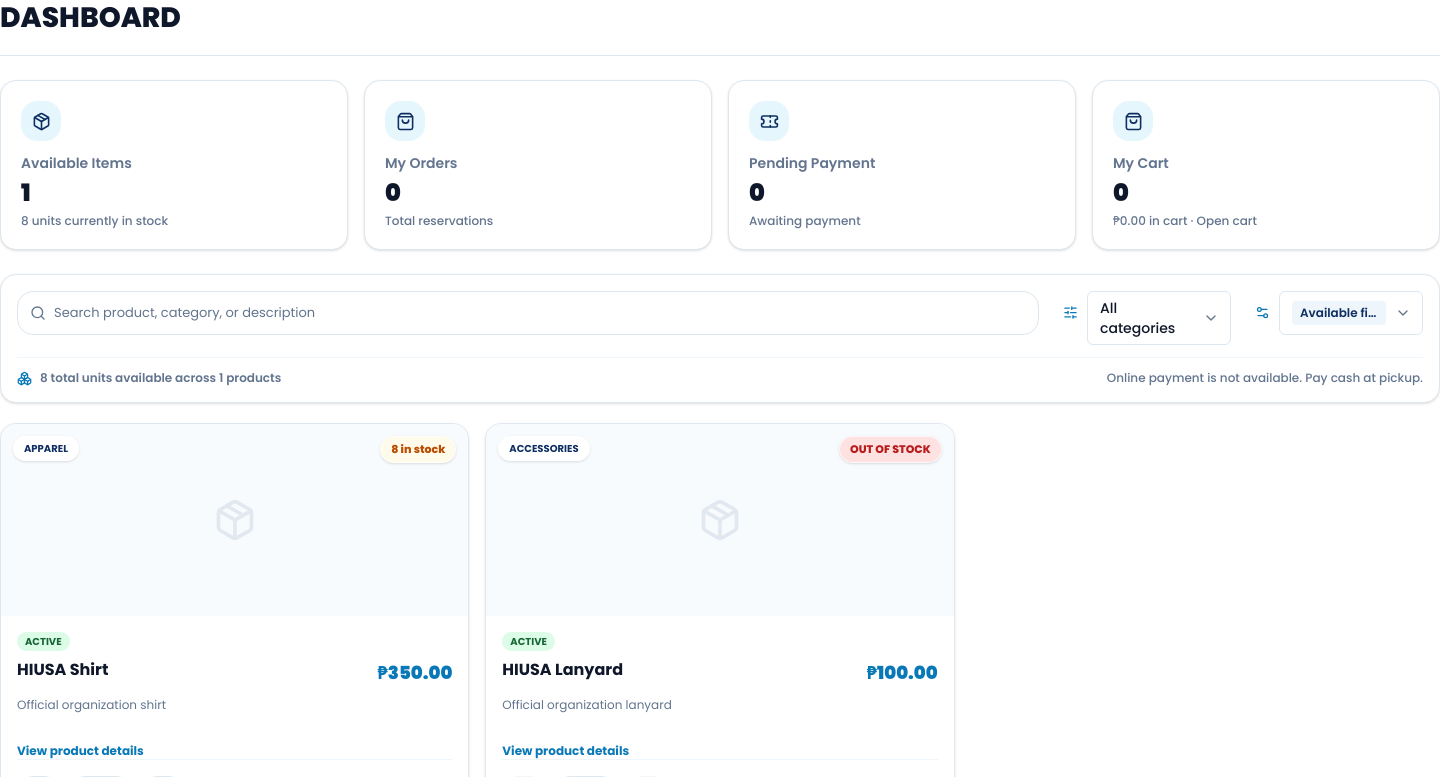
Test case: MerchandisePage buyer experience › opens product details with stock and adds the chosen quantity to the cart
Expected: the heading "HIUSA Shirt" is shown, x1=17 y1=659 x2=108 y2=681
Click the button "View product details" below "Official organization shirt" at (80, 751), box x1=17 y1=743 x2=144 y2=759
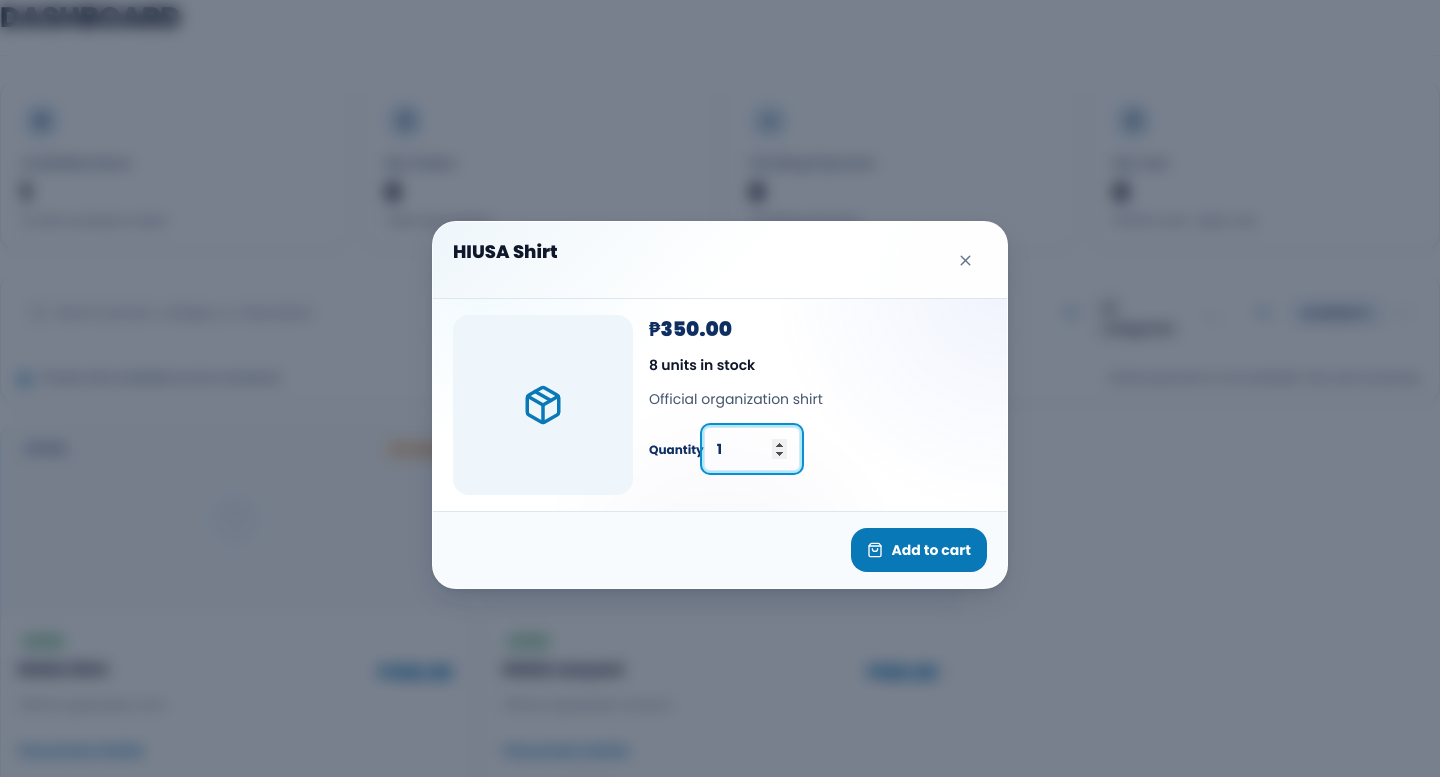
Now the text "8 units in stock" is shown, box x1=649 y1=355 x2=755 y2=375
Replace the text in the number field labelled "Quantity" with "2" at (752, 449), box x1=704 y1=427 x2=800 y2=471
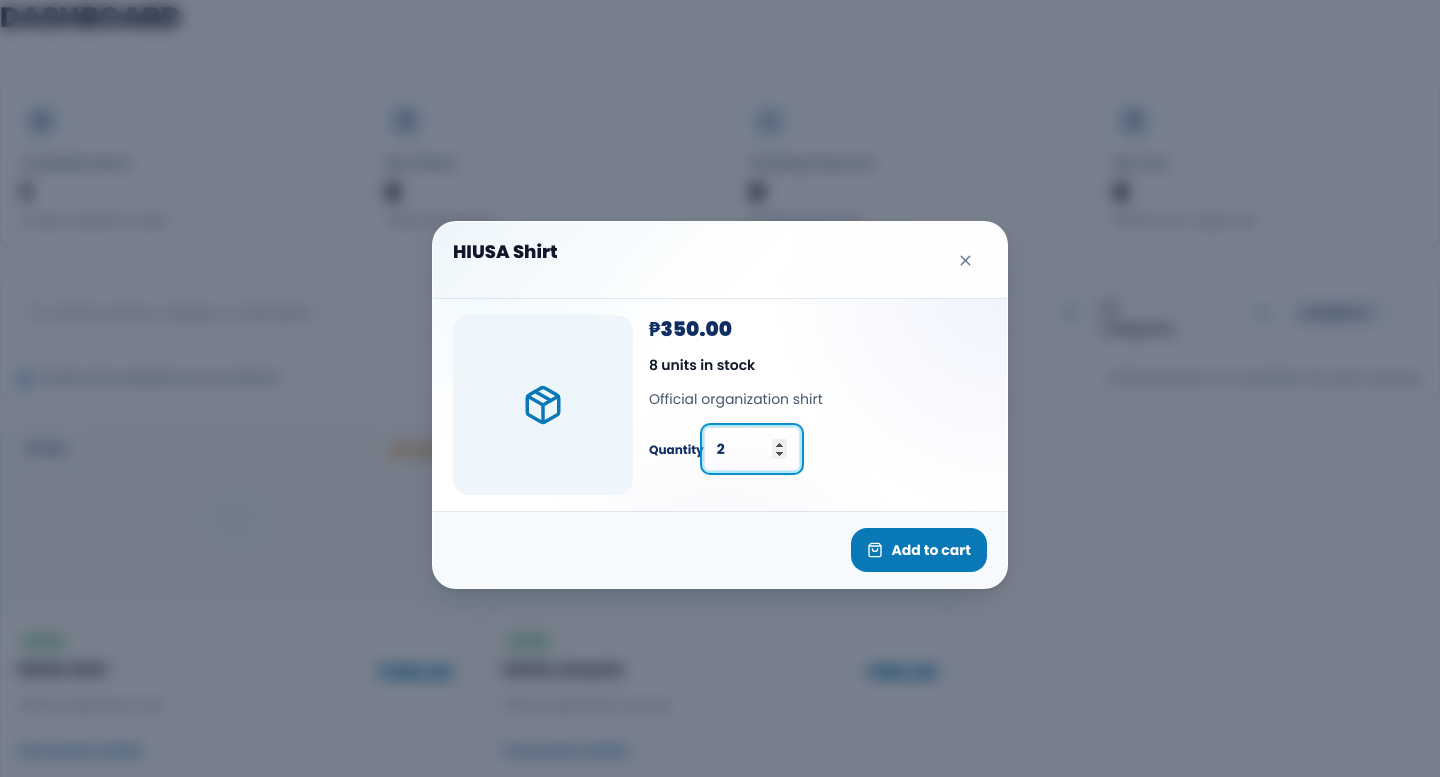
Click the button "Add to cart" at (919, 550), box x1=852 y1=528 x2=987 y2=572
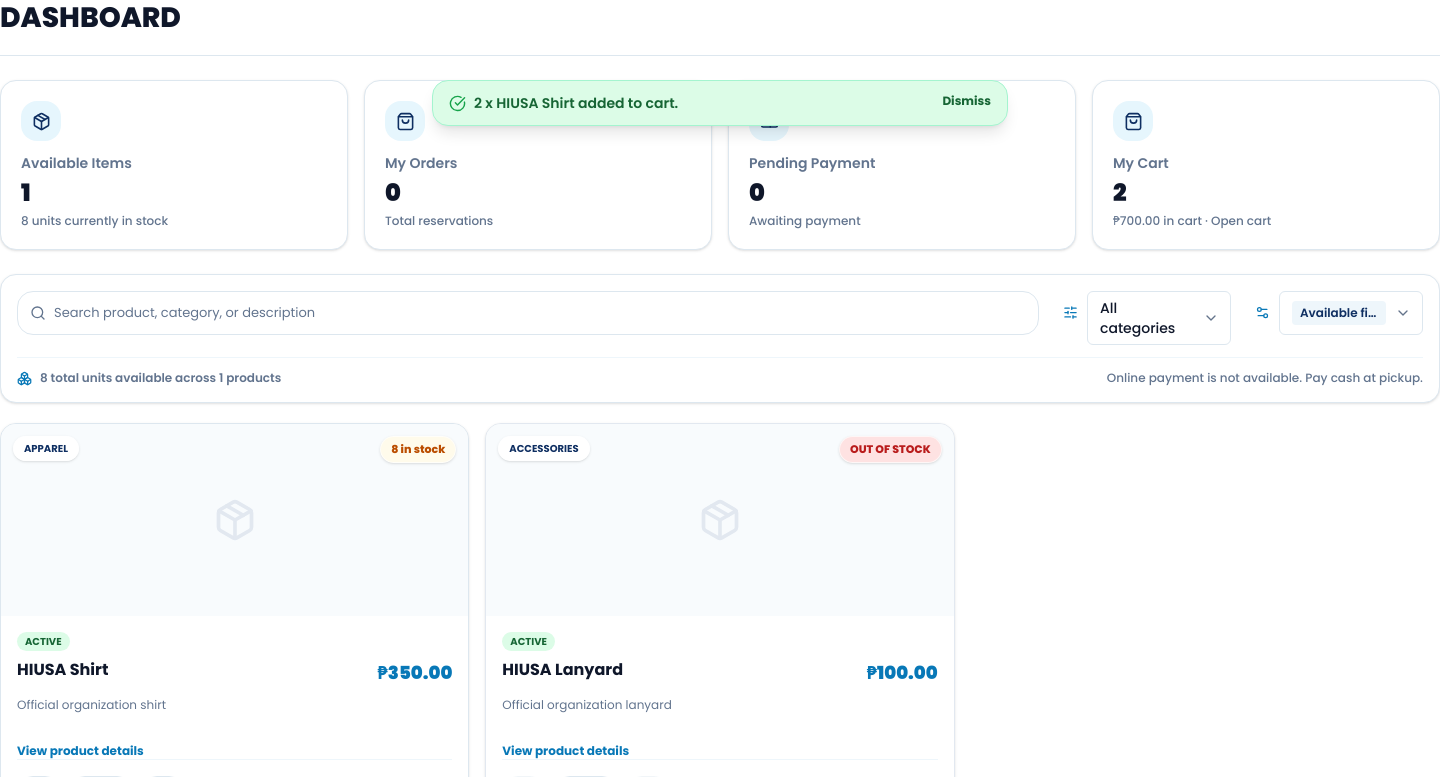
Now the dialog is gone
Now the text "2 x HIUSA Shirt added to cart." is shown, box x1=474 y1=93 x2=678 y2=113
